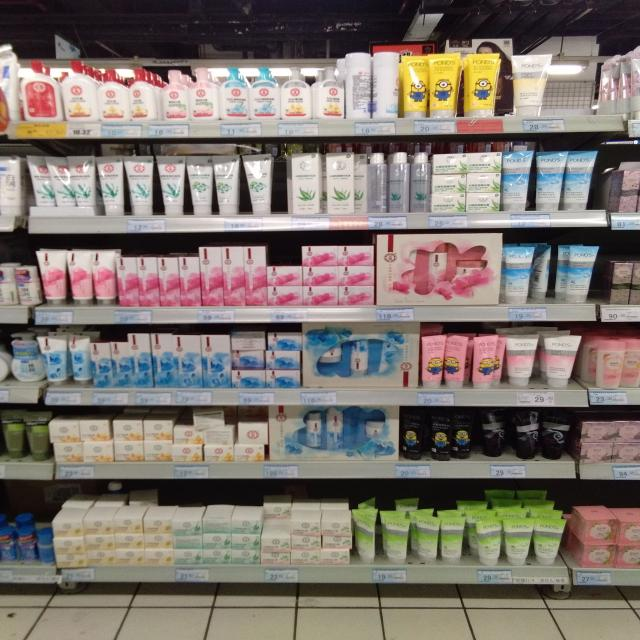100- O.O.S: (552, 55, 598, 131)
